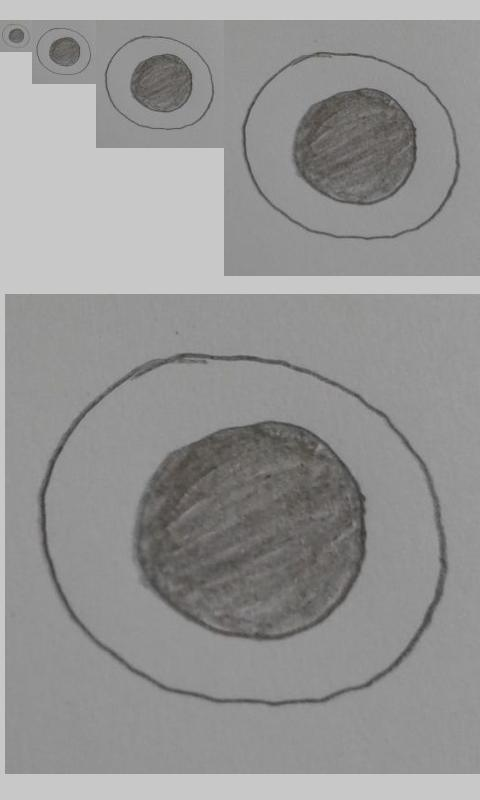radio_button: (34, 348, 451, 712), (238, 47, 463, 242), (104, 35, 216, 131), (36, 27, 92, 76), (1, 23, 31, 49)
